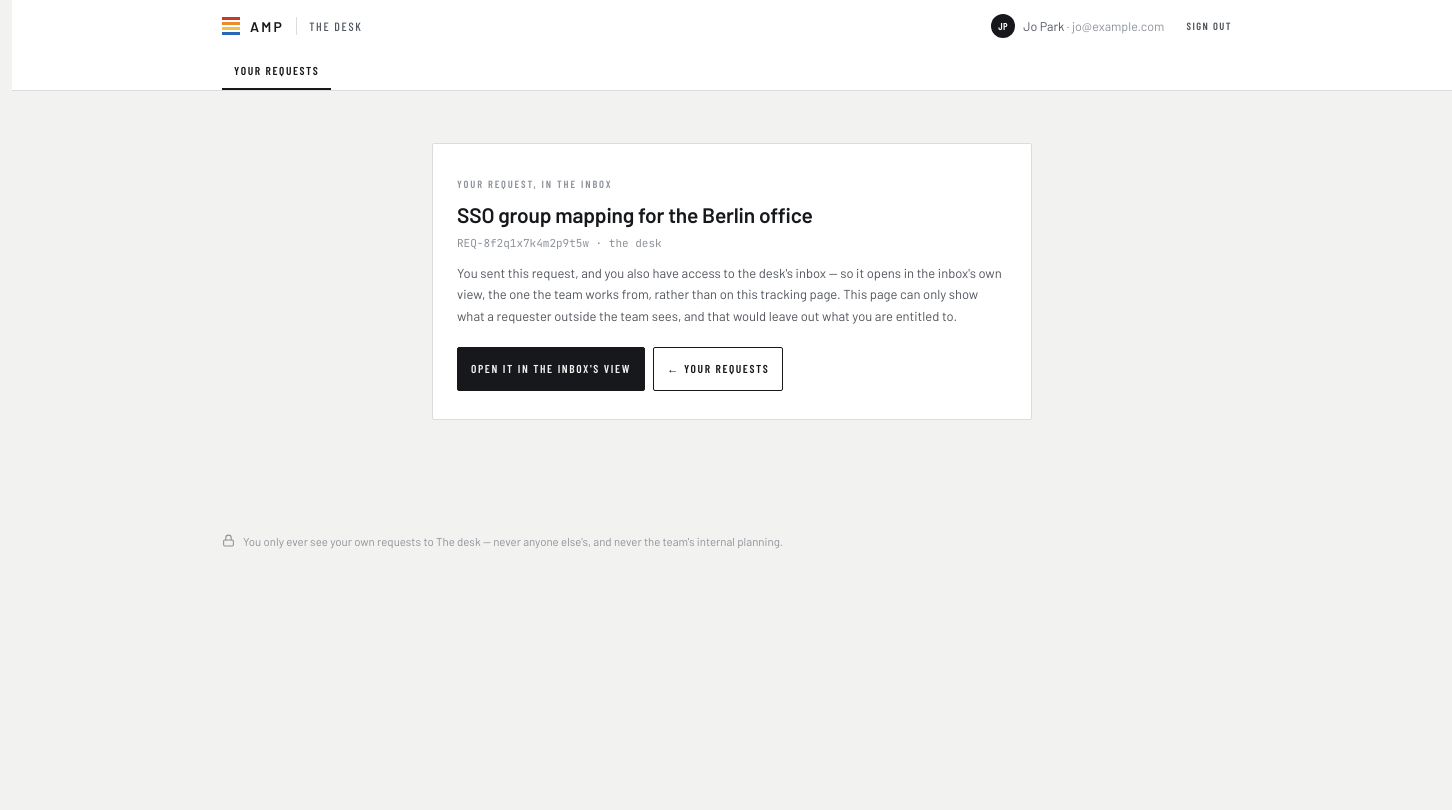
requester deep links › routes a member-requester to the inbox view of their own request
The width and height of the screenshot is (1452, 810).
Check: the element with test id "requester-team-standing" is shown, box left=432, top=143, right=1032, bottom=420
What coordinates should you click on to do the following:
click the button "Open it in the inbox's view"
I would click on:
 (551, 369)
Its box is left=457, top=347, right=645, bottom=391.
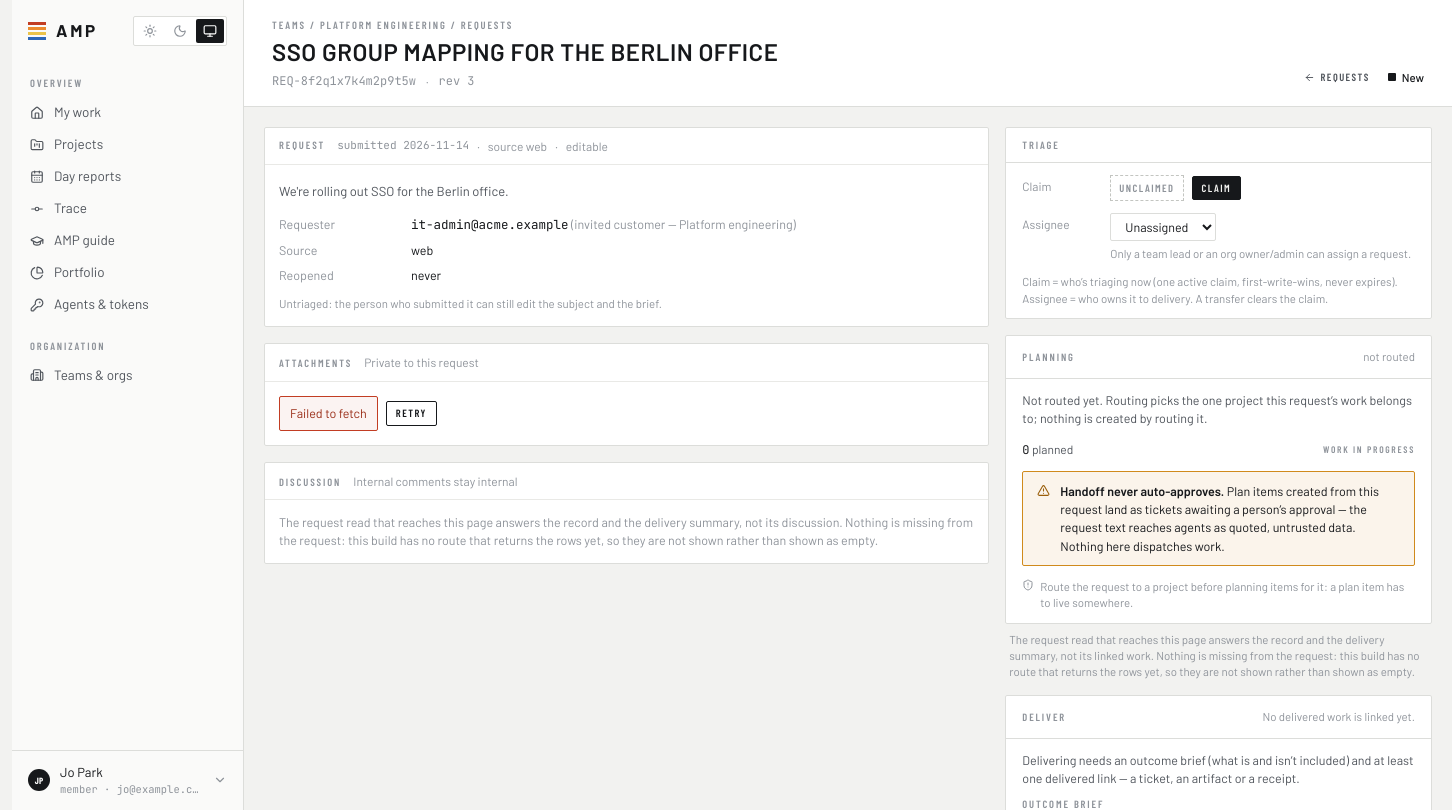
Check: the element named "Main" is shown, box left=12, top=0, right=244, bottom=809
